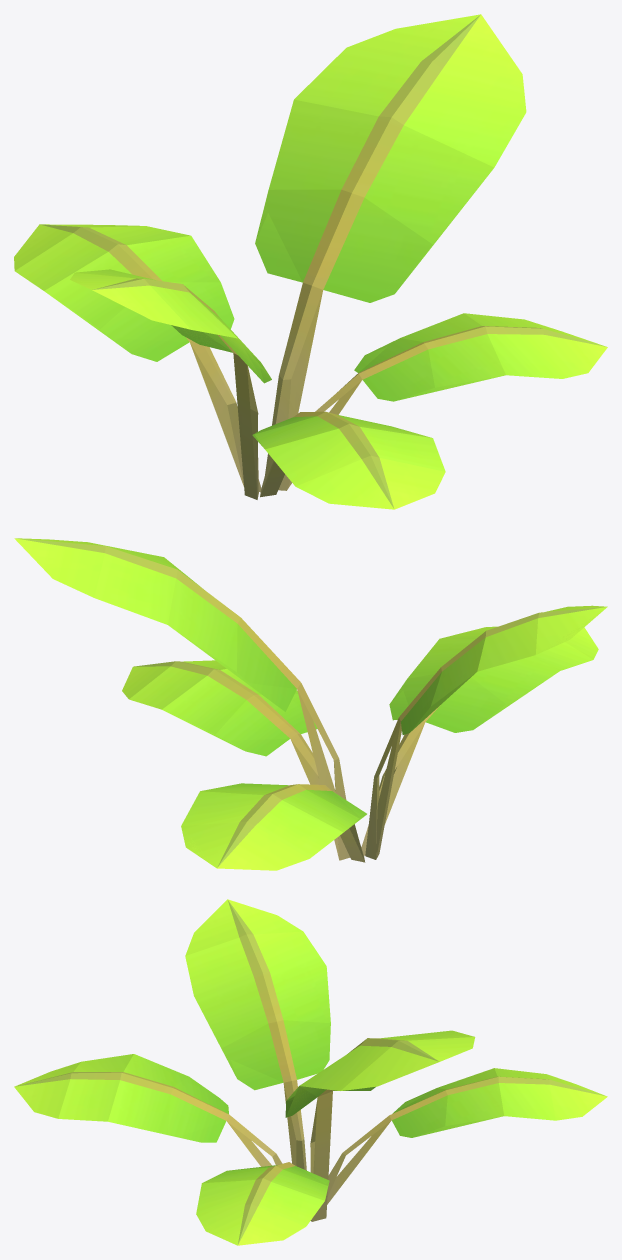
File: small-plant-1.glb
The picture shows the model from 3 angles, top to bottom: view 1: azimuth 30°, elevation 25°; view 2: azimuth 150°, elevation 25°; view 3: azimuth 270°, elevation 25°; orthographic projection. The views are drawn at different scales.
Parts seen in each view (by area): view 1: SmallPlant1_L0; view 2: SmallPlant1_L0; view 3: SmallPlant1_L0.
Part boxes in pixels (bbox=[...]): SmallPlant1_L0: bbox=[14, 14, 607, 509]; SmallPlant1_L0: bbox=[14, 538, 607, 870]; SmallPlant1_L0: bbox=[14, 899, 607, 1245].
Bounding box in the file's own units: 2.74 × 1.7 × 3.43.
Materials: 1 (1 with a texture image).
